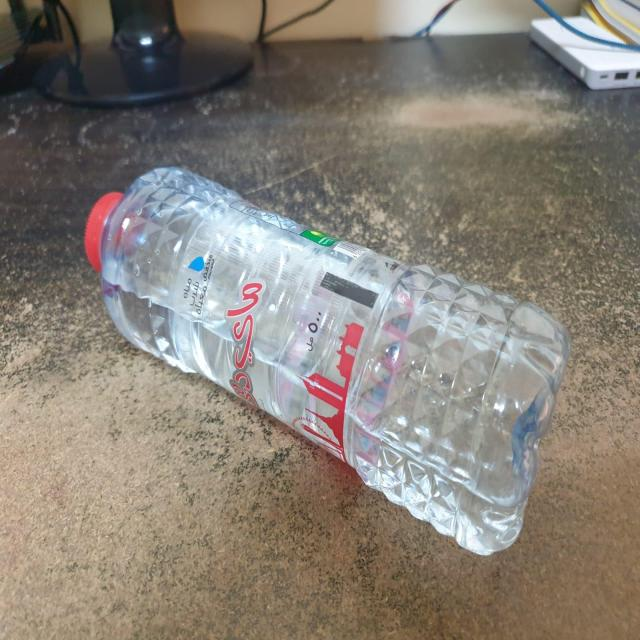bottle: (83, 164, 570, 561)
